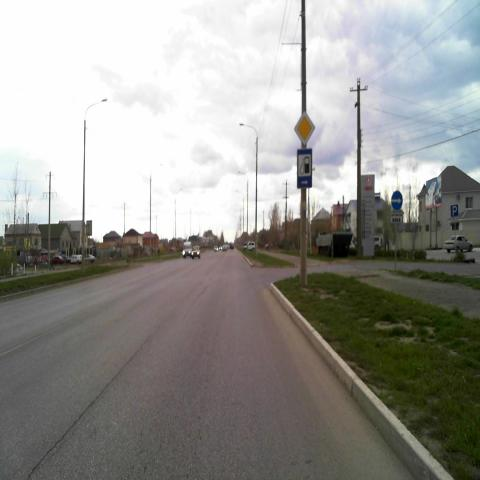4_1_2_1: (391, 190, 403, 211)
